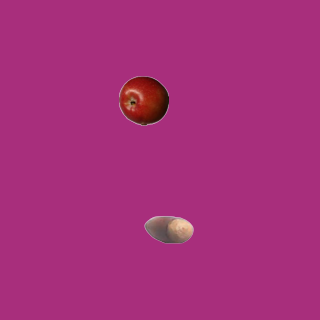Apple Braeburn: (118, 75, 168, 125)
Hazelnut: (143, 204, 193, 254)
